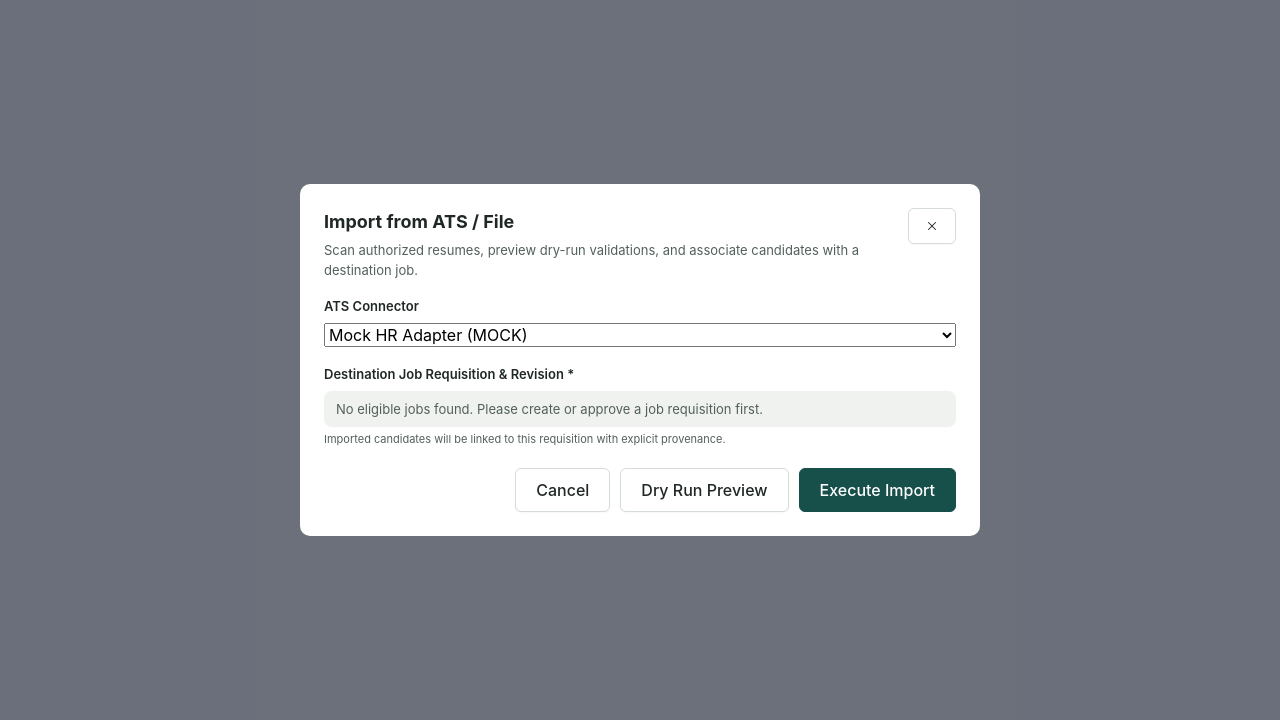
Test: Phase 3E.3: Jobs Directory Polish & ATS Integration › ATS Recruiter Import Workflow › shows dry run preview with valid, invalid, duplicate and changed counts
Step 1. Click the button "Dry Run Preview" → (704, 490), box [620, 468, 788, 512]
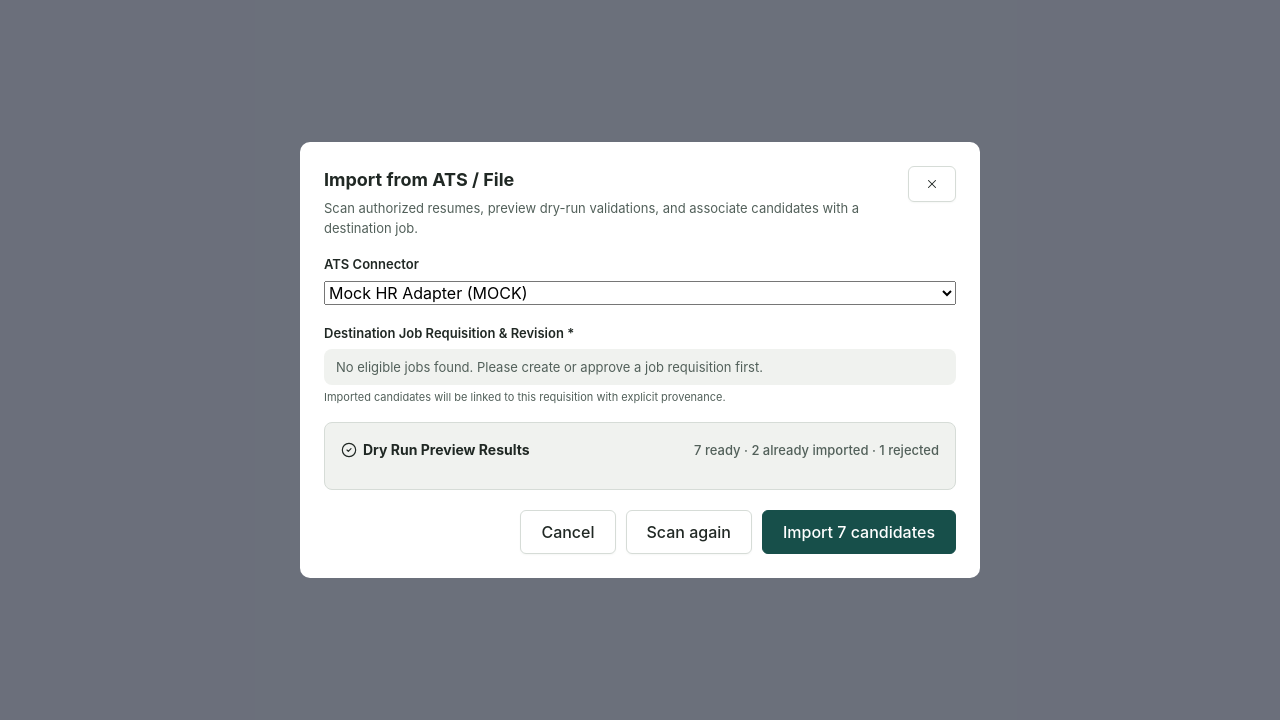
Check: the text "Dry Run Preview Results" is shown, box [363, 439, 530, 461]
Check: the text "7 ready · 2 already imported · 1 rejected" is shown, box [694, 440, 939, 460]
